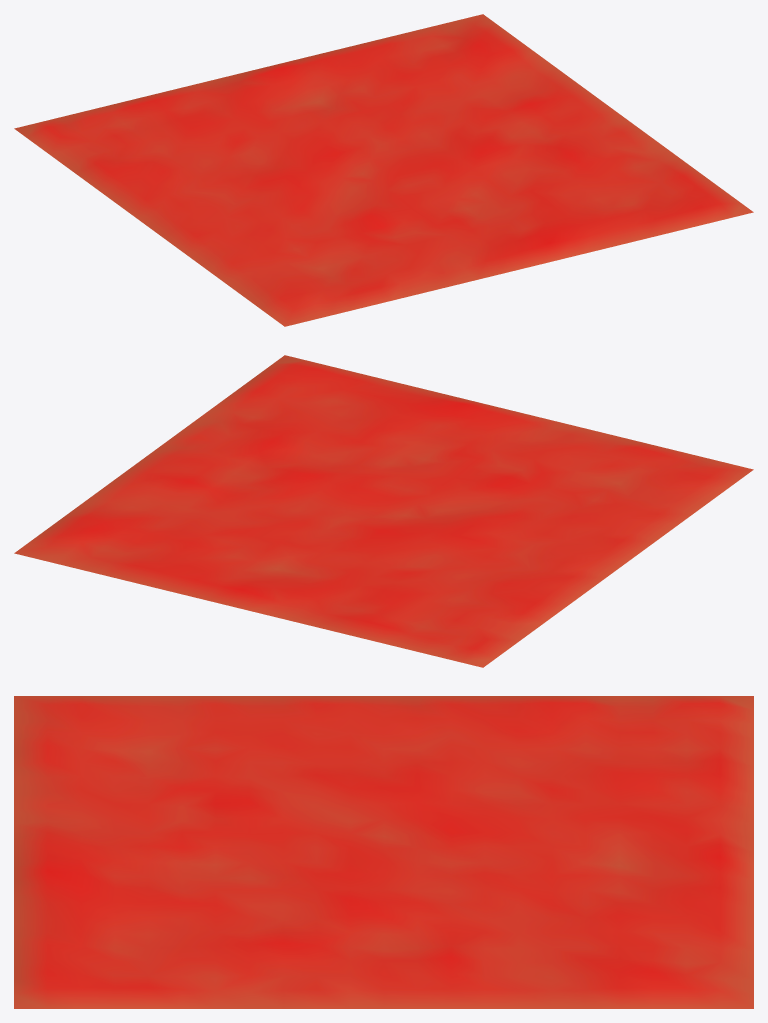
File: grass.glb
3 renders of one model, top to bottom at view 1: azimuth 30°, elevation 25°; view 2: azimuth 150°, elevation 25°; view 3: azimuth 270°, elevation 25°, orthographic. The views are drawn at different scales.
Visible parts, largest first — view 1: Grass; view 2: Grass; view 3: Grass.
Part boxes in pixels (x1=…): Grass: x1=14, y1=14, x2=753, y2=326; Grass: x1=14, y1=355, x2=753, y2=667; Grass: x1=14, y1=696, x2=753, y2=1008.
Size of what is drawn, in the model's own units: 96 by 1.38 by 96.
1 material, 1 textured.
